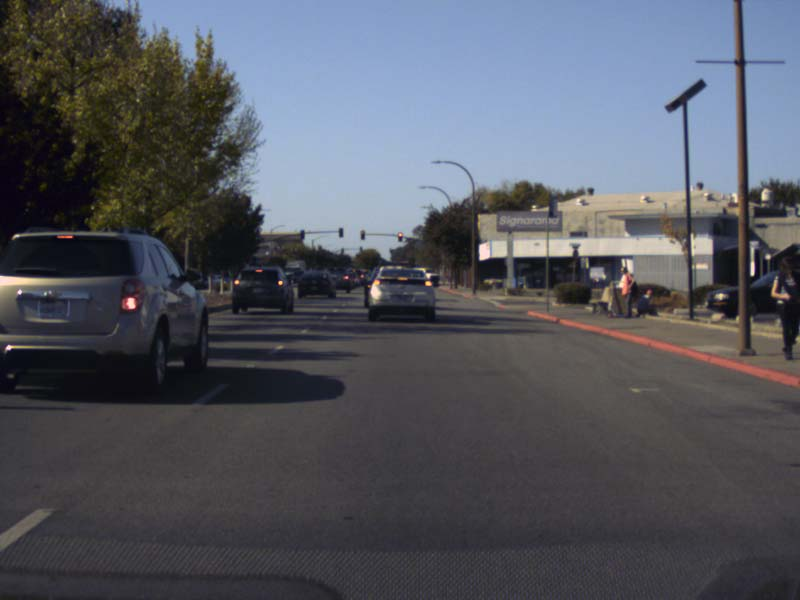Red: (397, 232, 402, 242), (360, 230, 364, 240)
